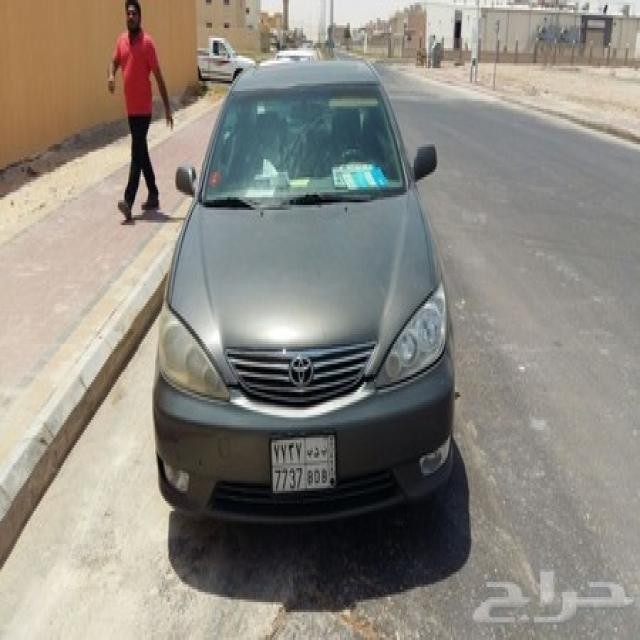license_plate: (268, 430, 338, 496)
